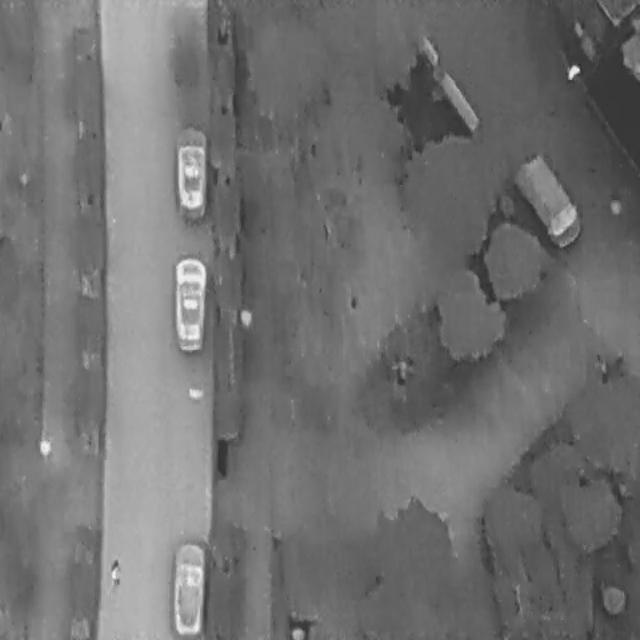Car: (512, 146, 587, 250), (171, 538, 206, 634), (174, 124, 206, 220), (174, 255, 205, 354)
Person: (567, 58, 580, 82)
